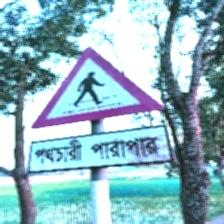Pedestrian-crossing: (28, 46, 172, 174)
